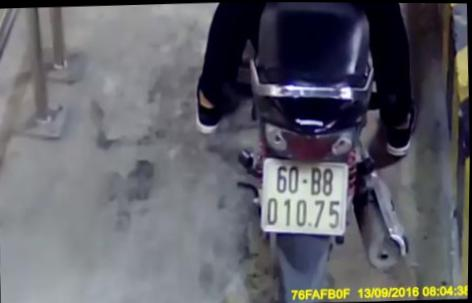LP: (257, 149, 354, 241)
